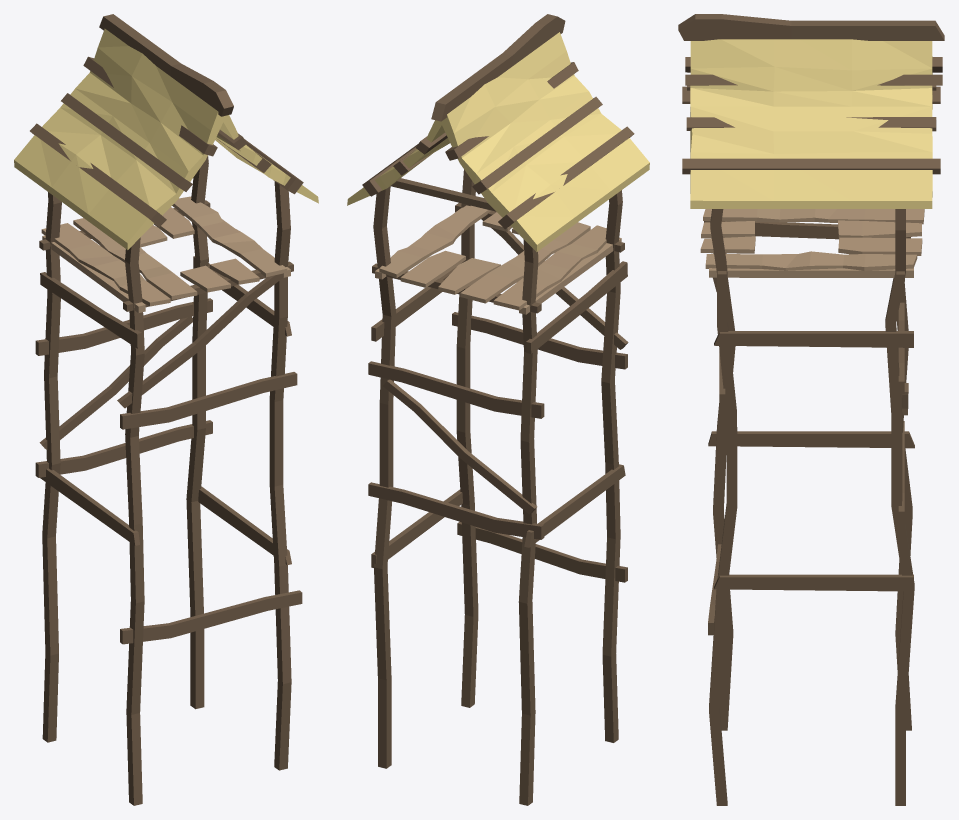
The model's file is Tower.fbx.
3 renders of one model, left to right at view 1: azimuth 30°, elevation 25°; view 2: azimuth 150°, elevation 25°; view 3: azimuth 270°, elevation 25°, orthographic. The views are drawn at different scales.
Parts seen in each view (by area): view 1: Tower; view 2: Tower; view 3: Tower.
Part boxes in pixels (x1=…): Tower: x1=14, y1=14, x2=318, y2=805; Tower: x1=347, y1=14, x2=649, y2=805; Tower: x1=678, y1=14, x2=944, y2=805.
Bounding box in the file's own units: 356 × 1251 × 403.
Materials: 1 (1 with a texture image).
